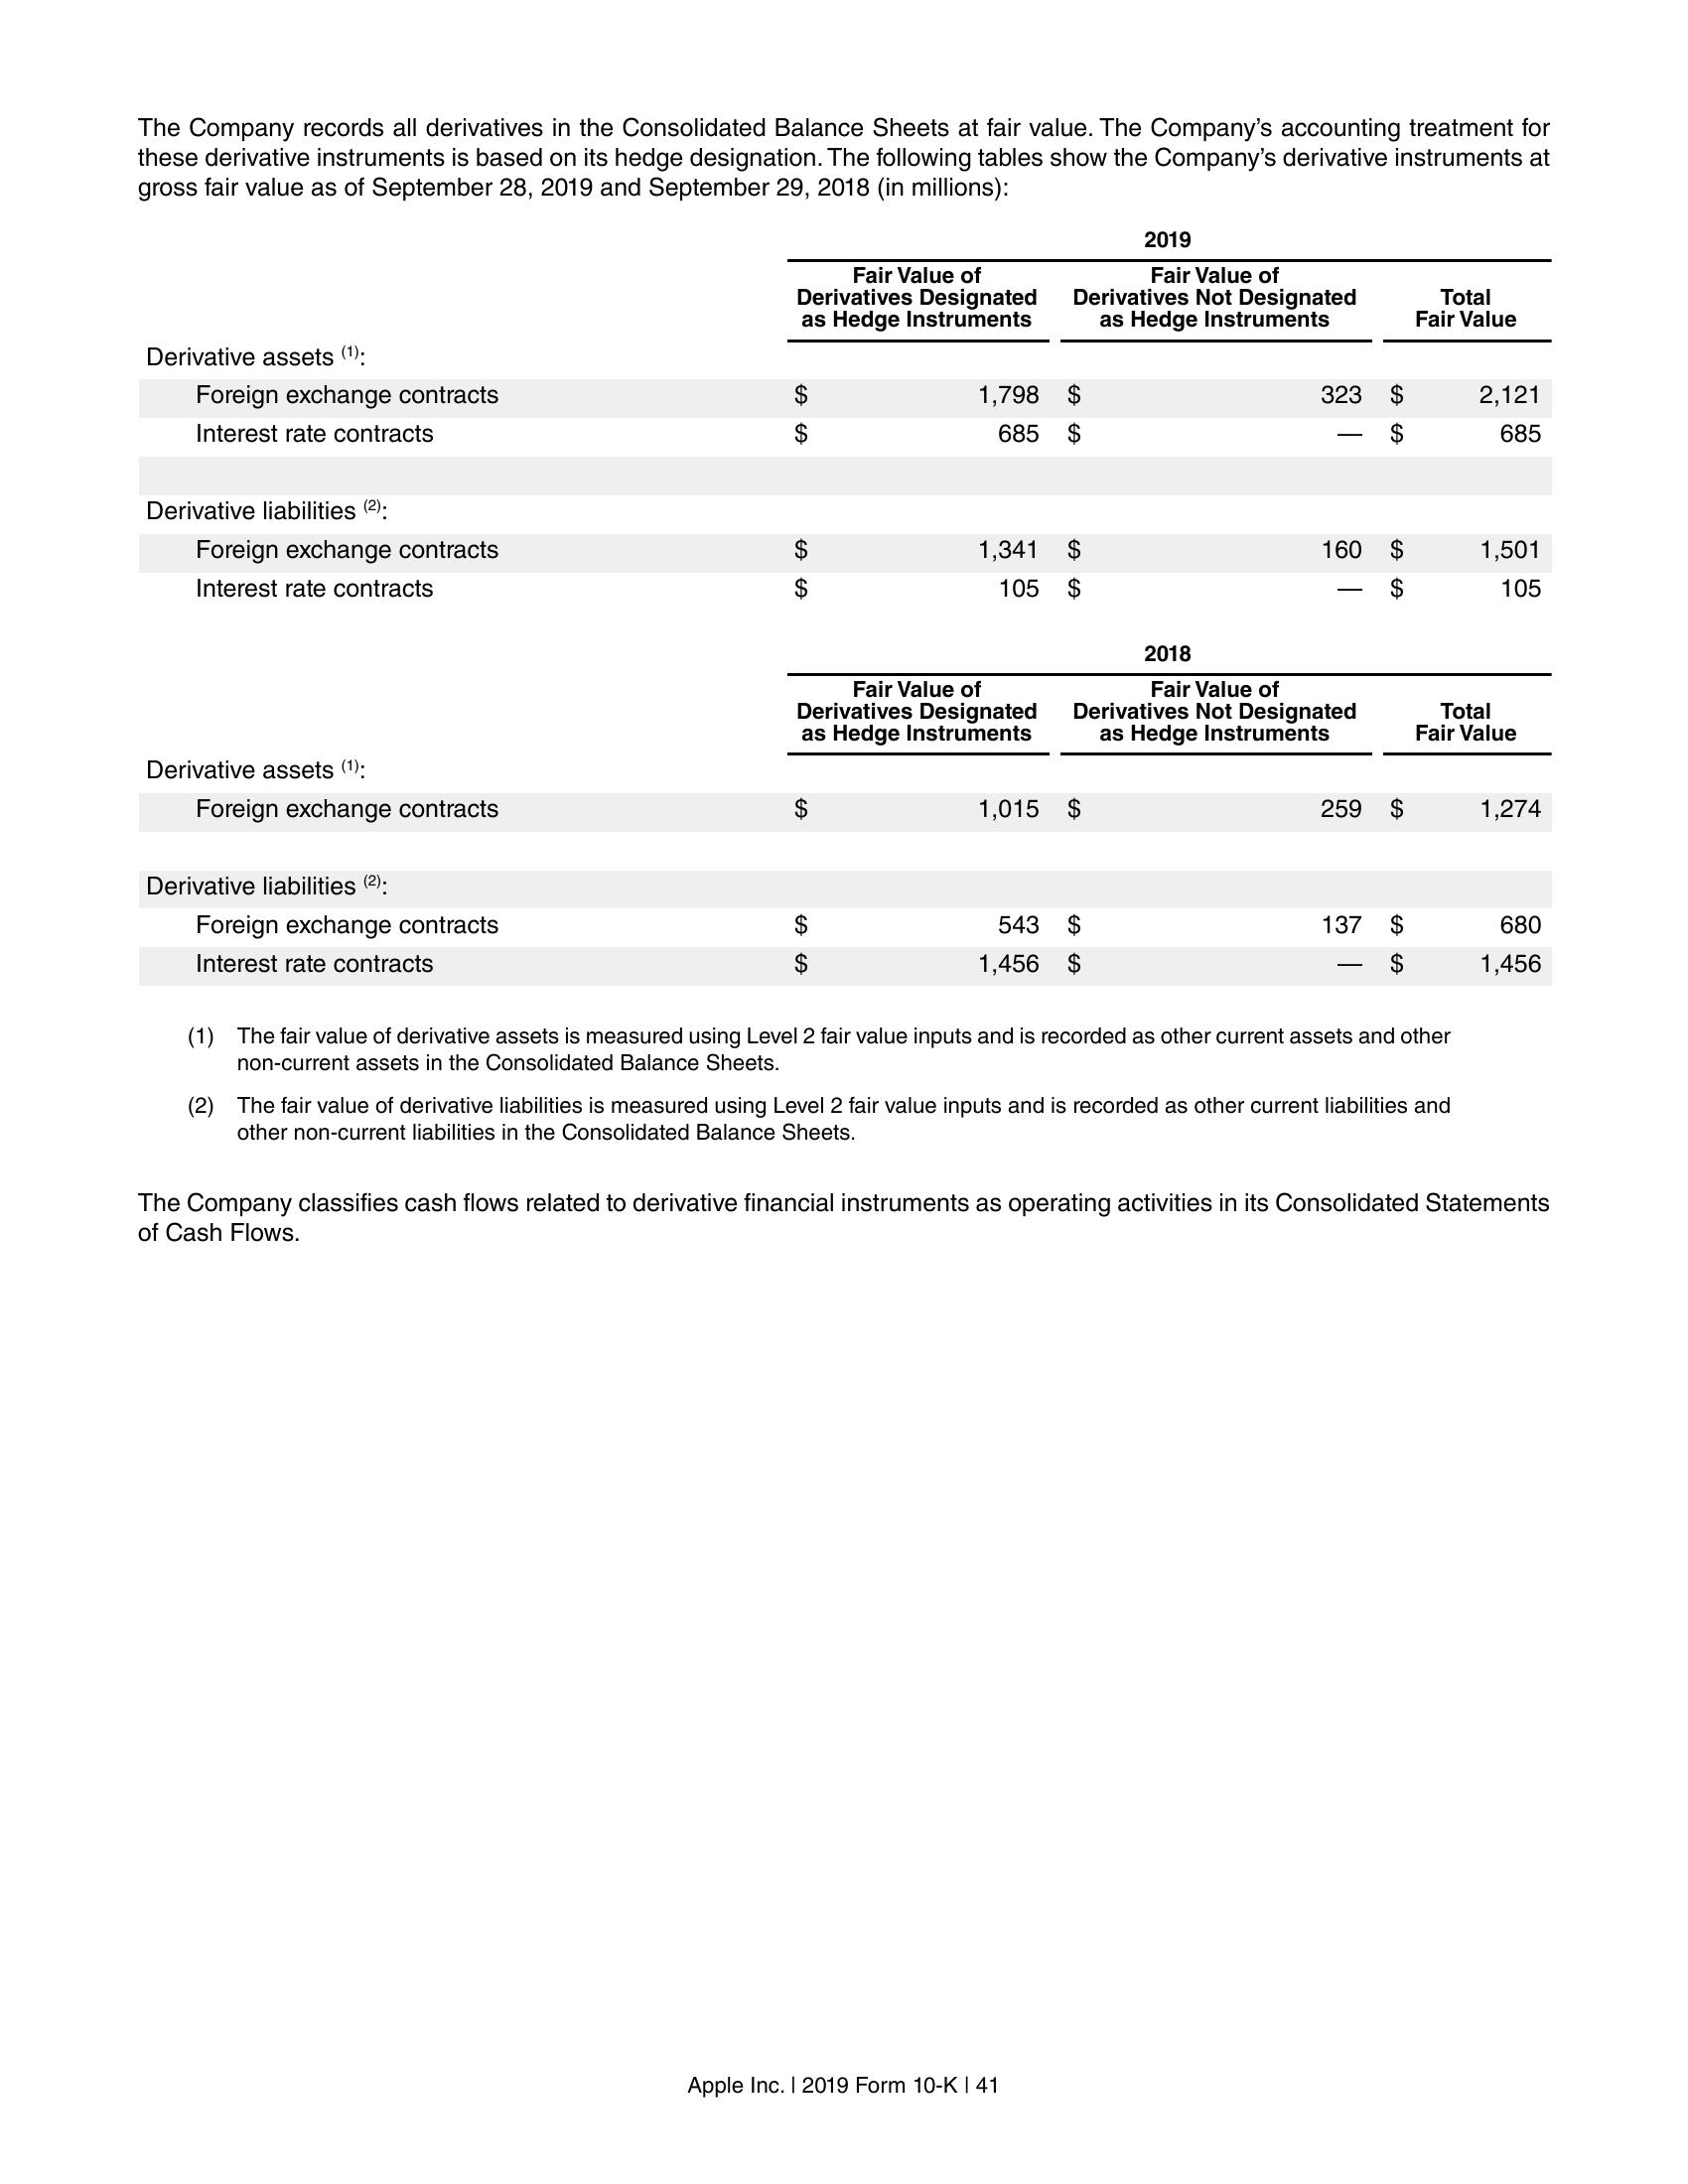table: (131, 220, 1546, 603), (144, 635, 1564, 982)
